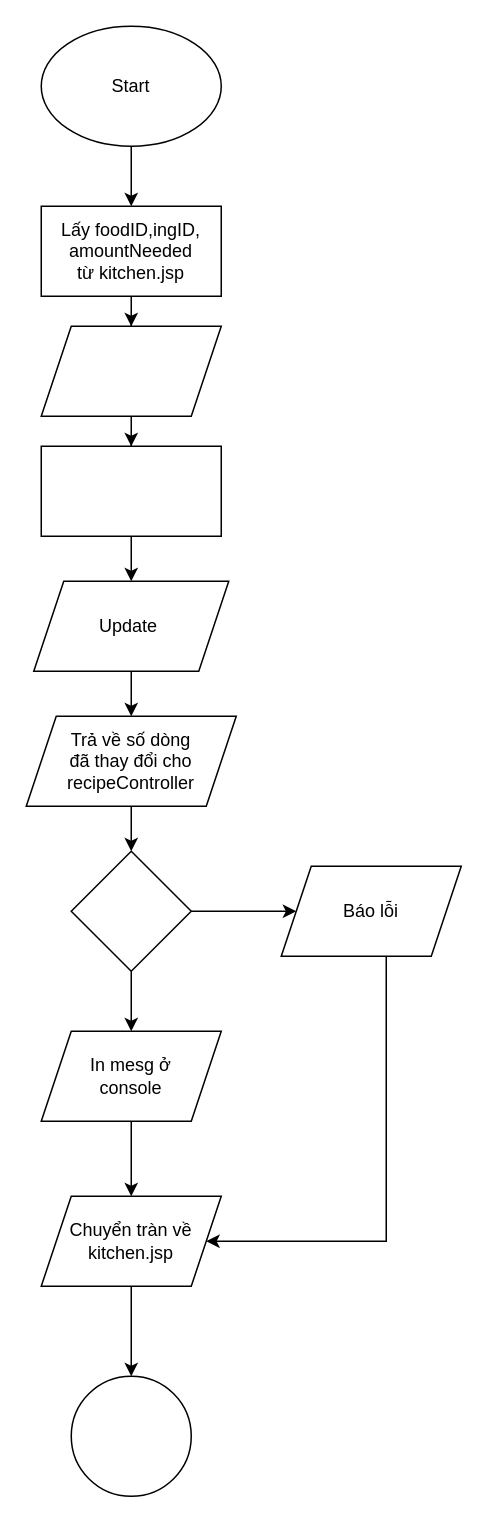
This 488x1523 diagram has some shape labels left out. Each missing label, with the centre of its shape:
Check > 0: point 130,910
End: point 130,1435
Gọi update từ RecipeDAO: point 130,490
Tạo đối tượng Recipe: point 130,370
